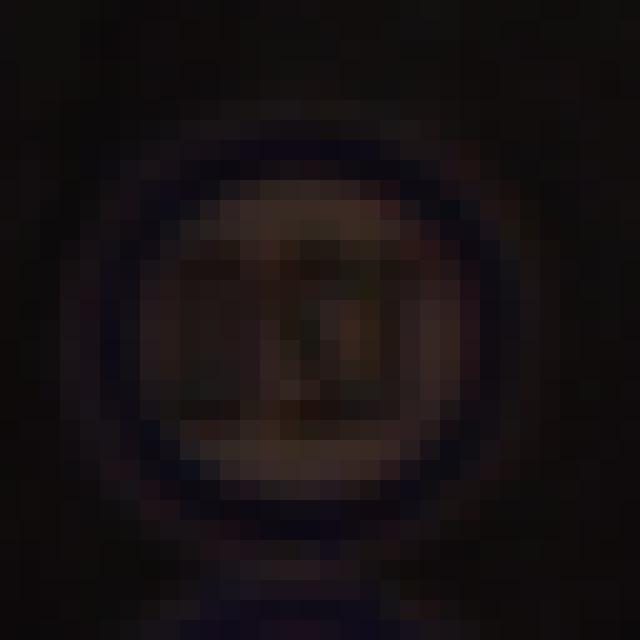SPEED LIMIT 120: (81, 145, 502, 500)
